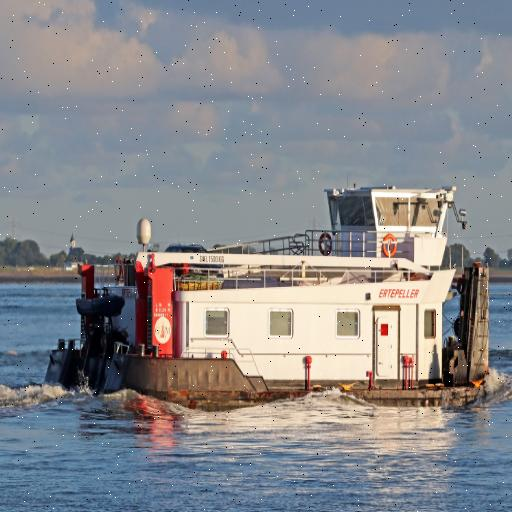tugboat: (45, 177, 492, 427)
